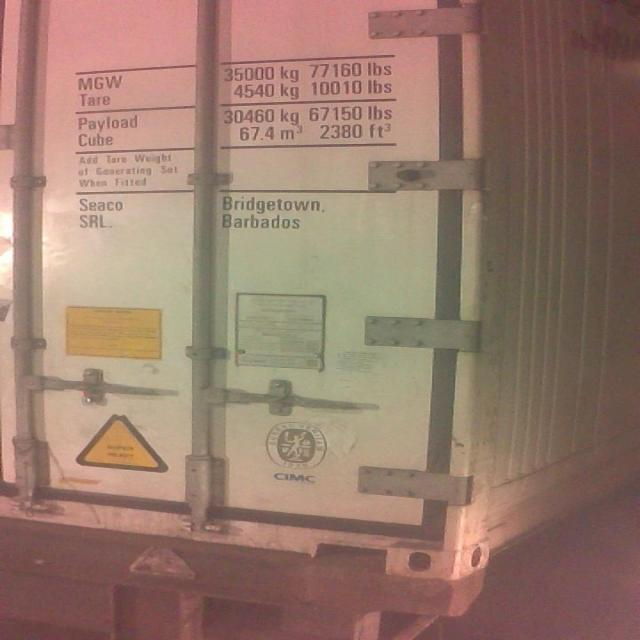seal: (82, 375, 97, 404)
